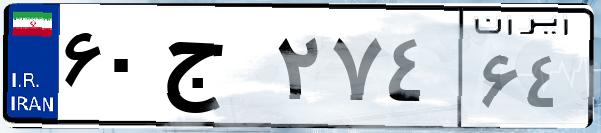0: (110, 28, 158, 98)
2: (270, 28, 330, 110)
4: (385, 28, 445, 110), (525, 38, 570, 115)
6: (57, 26, 110, 100), (475, 38, 525, 113)
7: (330, 28, 385, 110)
ج: (158, 20, 270, 120)
